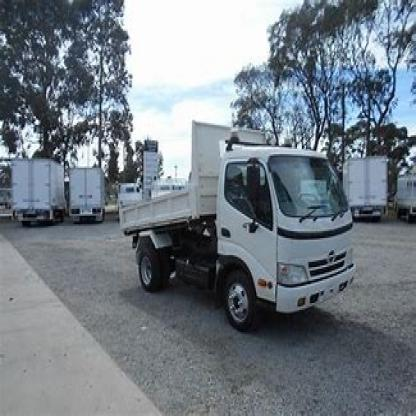dump_truck: (116, 113, 359, 330)
